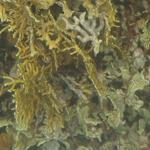alive: (2, 2, 146, 147)
